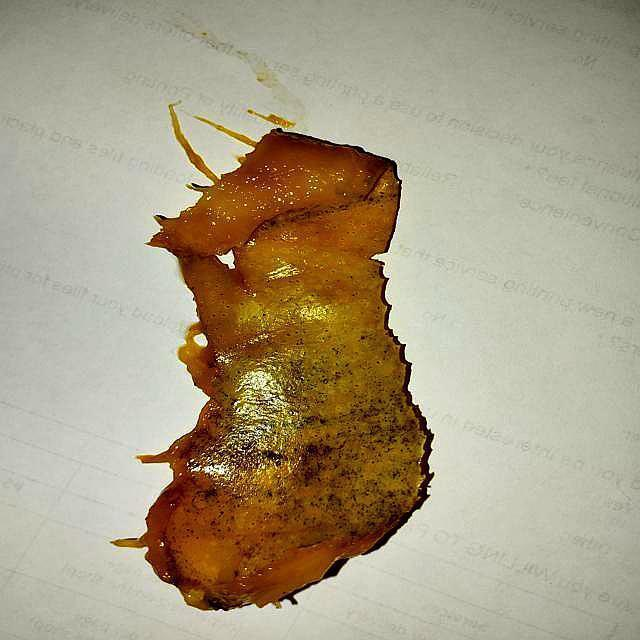Biodegradable: (153, 129, 429, 631)
